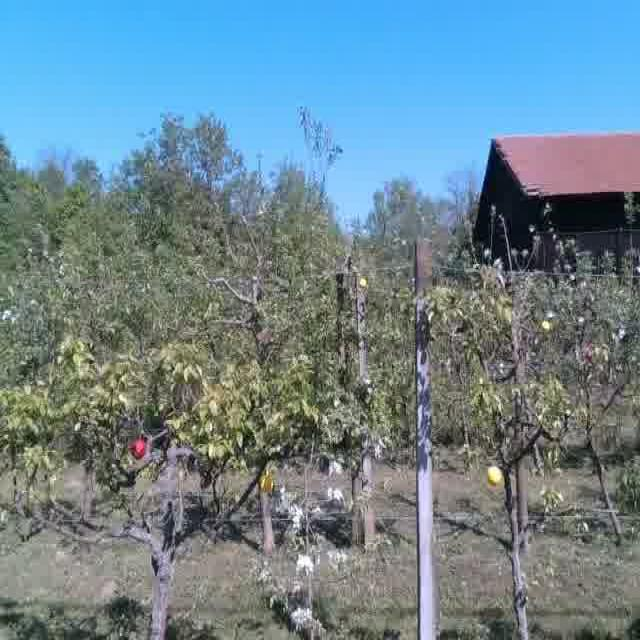red: (129, 437, 147, 458)
yellow: (484, 463, 506, 491), (256, 466, 276, 496), (539, 319, 552, 333)
